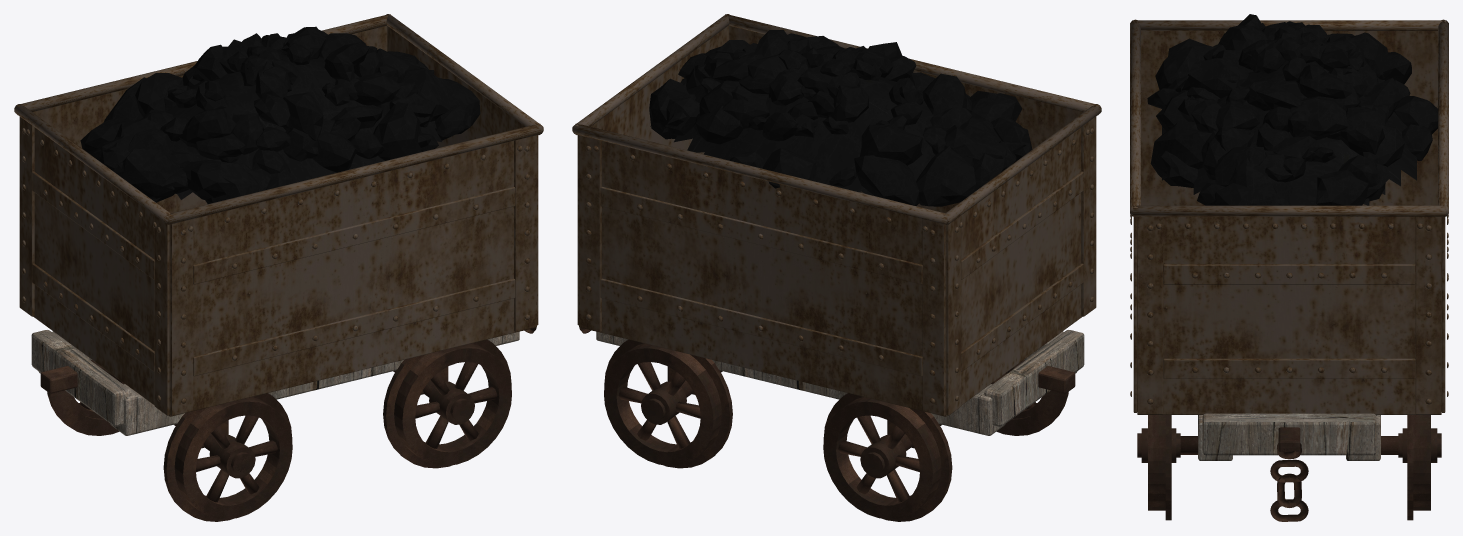
The model's file is coal-tub.glb.
The picture shows the model from 3 angles, left to right: view 1: azimuth 30°, elevation 25°; view 2: azimuth 150°, elevation 25°; view 3: azimuth 270°, elevation 25°; orthographic projection. The views are drawn at different scales.
Visible parts, largest first — view 1: tub-body, coal-lumps, wheel_back_left, wheel_front_left, coal-heap, wheel_back_right; view 2: tub-body, coal-lumps, wheel_back_right, wheel_front_right, coal-heap, wheel_back_left; view 3: tub-body, coal-lumps, coal-heap, wheel_front_left, wheel_front_right.
Boxes of the visible parts, x1=… form: tub-body: x1=14, y1=14, x2=543, y2=472; coal-lumps: x1=80, y1=26, x2=480, y2=203; wheel_back_left: x1=163, y1=393, x2=292, y2=521; wheel_front_left: x1=383, y1=339, x2=511, y2=468; coal-heap: x1=151, y1=54, x2=441, y2=201; wheel_back_right: x1=47, y1=371, x2=119, y2=435; tub-body: x1=572, y1=14, x2=1101, y2=450; coal-lumps: x1=649, y1=30, x2=1032, y2=206; wheel_back_right: x1=823, y1=393, x2=952, y2=521; wheel_front_right: x1=604, y1=339, x2=732, y2=468; coal-heap: x1=650, y1=61, x2=935, y2=195; wheel_back_left: x1=996, y1=371, x2=1068, y2=435; tub-body: x1=1130, y1=19, x2=1448, y2=521; coal-lumps: x1=1147, y1=14, x2=1437, y2=205; coal-heap: x1=1162, y1=60, x2=1416, y2=205; wheel_front_left: x1=1137, y1=415, x2=1180, y2=520; wheel_front_right: x1=1398, y1=415, x2=1441, y2=520.
Bounding box in the file's own units: 1.32 × 1.05 × 0.7328.
5 materials, 5 textured.
